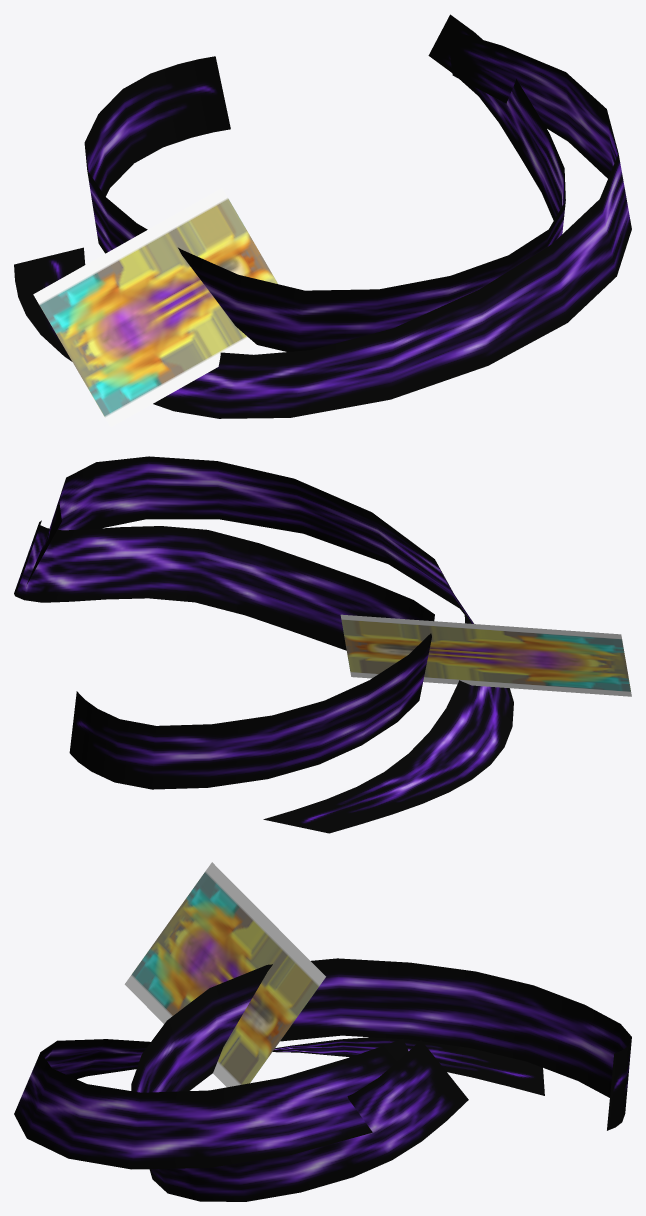
Rendered from effect_tianfeng_1.FBX.
3 views of the same model, one above another, from view 1: azimuth 30°, elevation 25°; view 2: azimuth 150°, elevation 25°; view 3: azimuth 270°, elevation 25° (orthographic). The views are drawn at different scales.
Visible parts, largest first — view 1: effect_tianfeng_1, effect_tianfeng_2, effect_tianfeng_3; view 2: effect_tianfeng_2, effect_tianfeng_1, effect_tianfeng_3; view 3: effect_tianfeng_2, effect_tianfeng_1, effect_tianfeng_3.
Boxes of the visible parts, x1=… form: effect_tianfeng_1: x1=14, y1=29, x2=631, y2=418; effect_tianfeng_2: x1=84, y1=14, x2=565, y2=351; effect_tianfeng_3: x1=33, y1=188, x2=277, y2=427; effect_tianfeng_2: x1=14, y1=520, x2=434, y2=789; effect_tianfeng_1: x1=27, y1=456, x2=513, y2=833; effect_tianfeng_3: x1=340, y1=614, x2=631, y2=696; effect_tianfeng_2: x1=131, y1=958, x2=631, y2=1201; effect_tianfeng_1: x1=14, y1=1037, x2=544, y2=1169; effect_tianfeng_3: x1=124, y1=862, x2=325, y2=1087.
Size of the model in its own units: 325 by 115 by 306.
2 materials, 2 textured.
